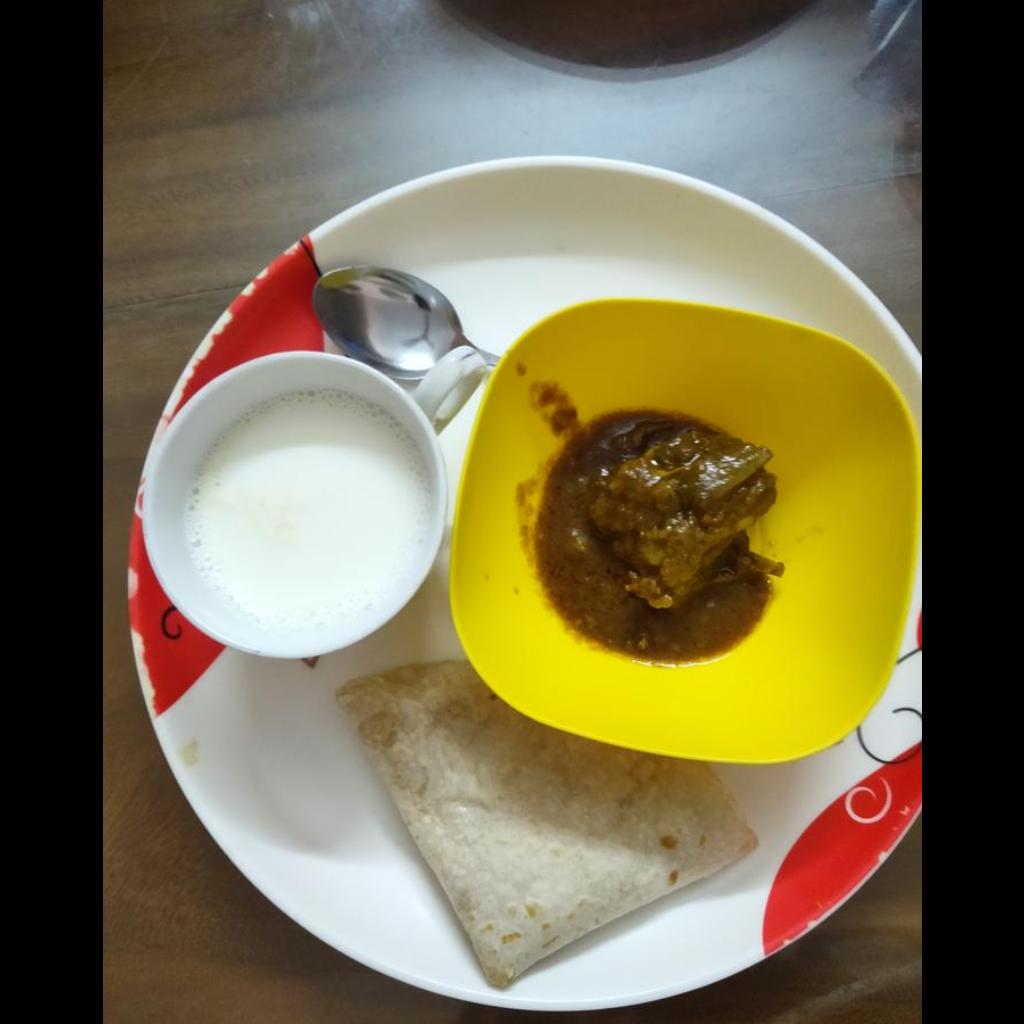beef: (577, 431, 781, 603)
milk: (186, 396, 430, 628)
ruti: (334, 664, 768, 988)
